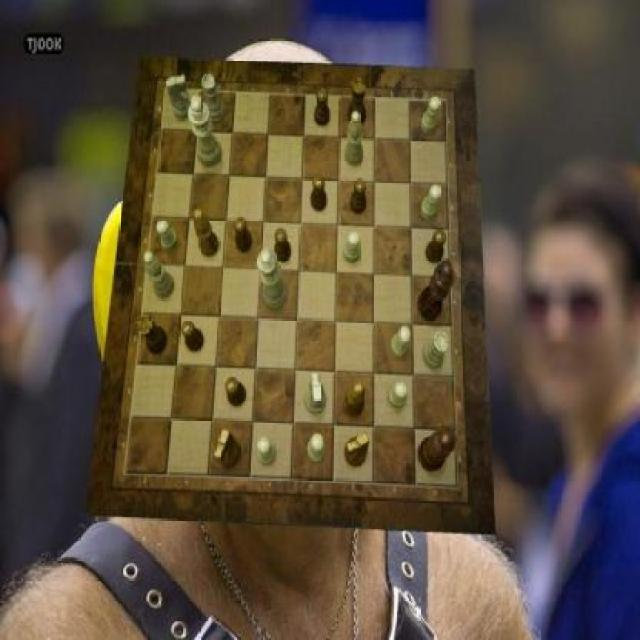bishop: (194, 210, 218, 258), (344, 382, 366, 416)
black-bishop: (418, 258, 456, 321)
black-king: (214, 429, 241, 467), (346, 432, 371, 467)
black-knight: (182, 320, 204, 352), (426, 229, 446, 263), (350, 179, 368, 213), (315, 88, 331, 126), (226, 377, 246, 406), (234, 217, 251, 251), (274, 229, 291, 263), (311, 176, 327, 212)
black-pawn: (418, 426, 458, 472)
black-queen: (138, 315, 168, 354), (348, 79, 365, 126)
black-rook: (144, 252, 176, 300), (345, 111, 362, 165)
white-bishop: (188, 97, 222, 169)
white-king: (168, 75, 192, 121), (305, 374, 327, 414)
white-knight: (422, 97, 442, 135), (155, 220, 178, 252), (422, 184, 442, 220), (391, 326, 411, 359), (343, 231, 361, 263), (257, 437, 276, 465), (389, 382, 408, 408), (308, 434, 325, 461)
white-pawn: (257, 248, 288, 309)
white-queen: (203, 74, 226, 123), (423, 331, 449, 368)
